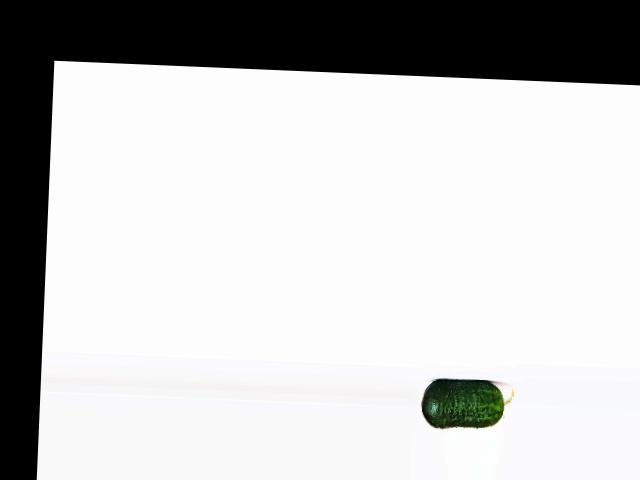cucumber: (421, 377, 514, 432)
